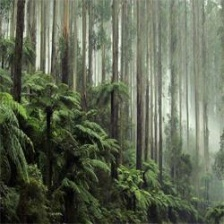neutral: (2, 4, 223, 223)
